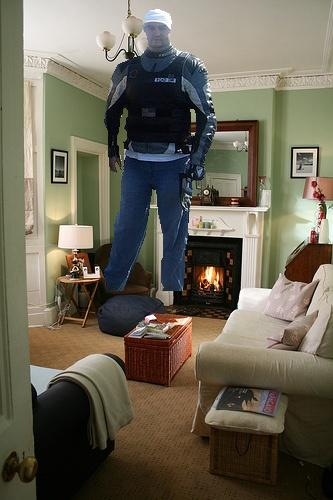tampered: (104, 10, 217, 291)
